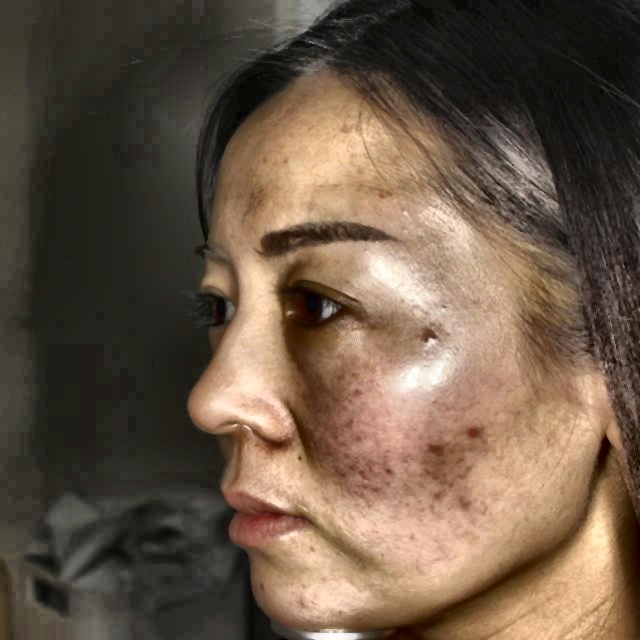comedone: (457, 419, 500, 456), (412, 441, 454, 469)
